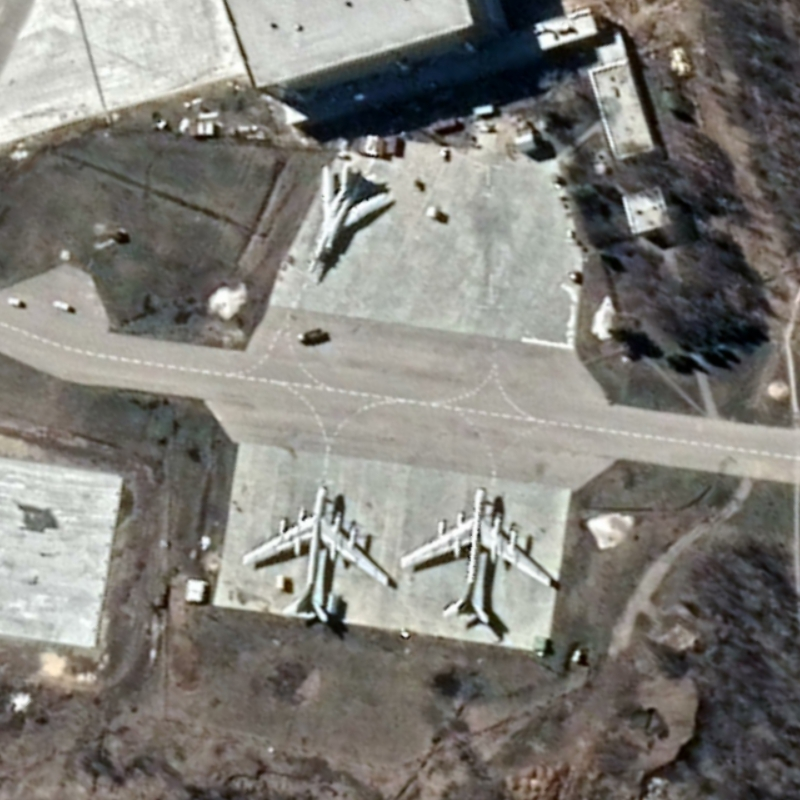A12: (305, 161, 391, 275)
A17: (396, 485, 554, 627), (238, 482, 393, 624)
